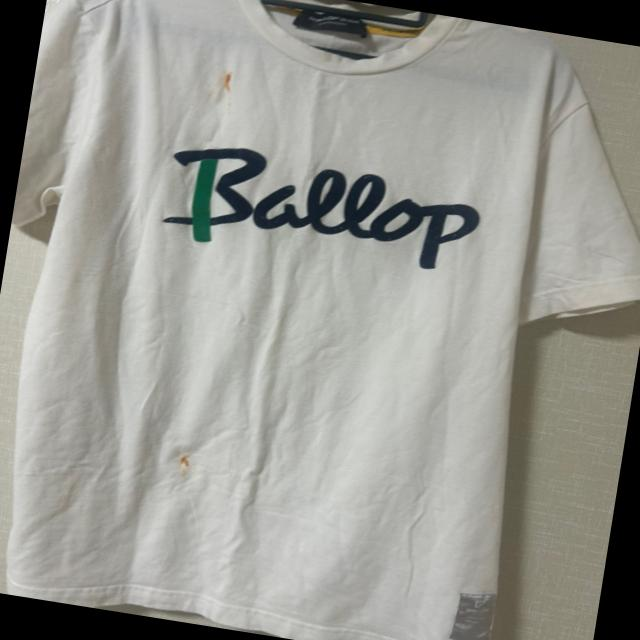stain: (168, 454, 200, 474), (218, 70, 238, 96)
